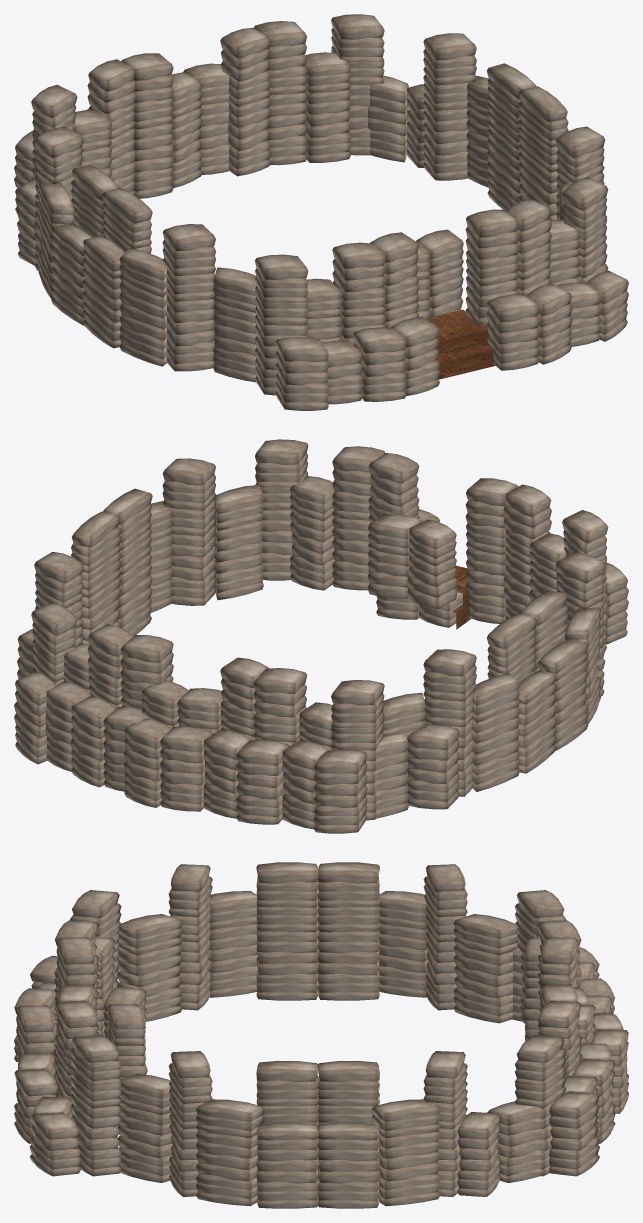
File: tower_defense.dae
3 renders of one model, top to bottom at view 1: azimuth 30°, elevation 25°; view 2: azimuth 150°, elevation 25°; view 3: azimuth 270°, elevation 25°, orthographic. The views are drawn at different scales.
Visible parts, largest first — view 1: tower_defense; view 2: tower_defense; view 3: tower_defense.
Part boxes in pixels (x1,y1,x2,y2): tower_defense: (14, 14, 628, 410); tower_defense: (14, 439, 628, 833); tower_defense: (14, 862, 628, 1208).
Size of the model in its own units: 19.61 by 22.39 by 5.3.
